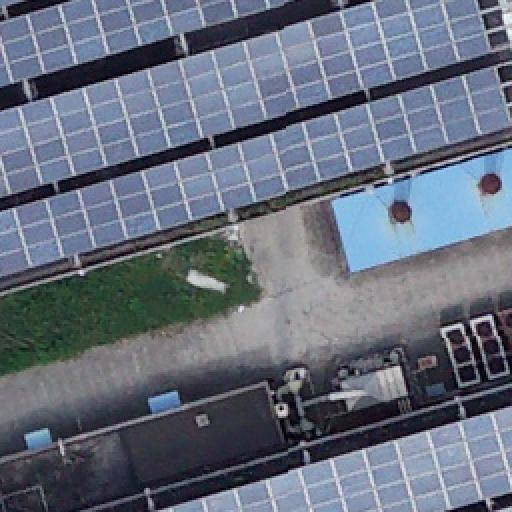solar-panel: (0, 67, 512, 277), (0, 1, 492, 199), (152, 408, 512, 512), (0, 0, 296, 88), (1, 0, 31, 8), (496, 505, 512, 511)
